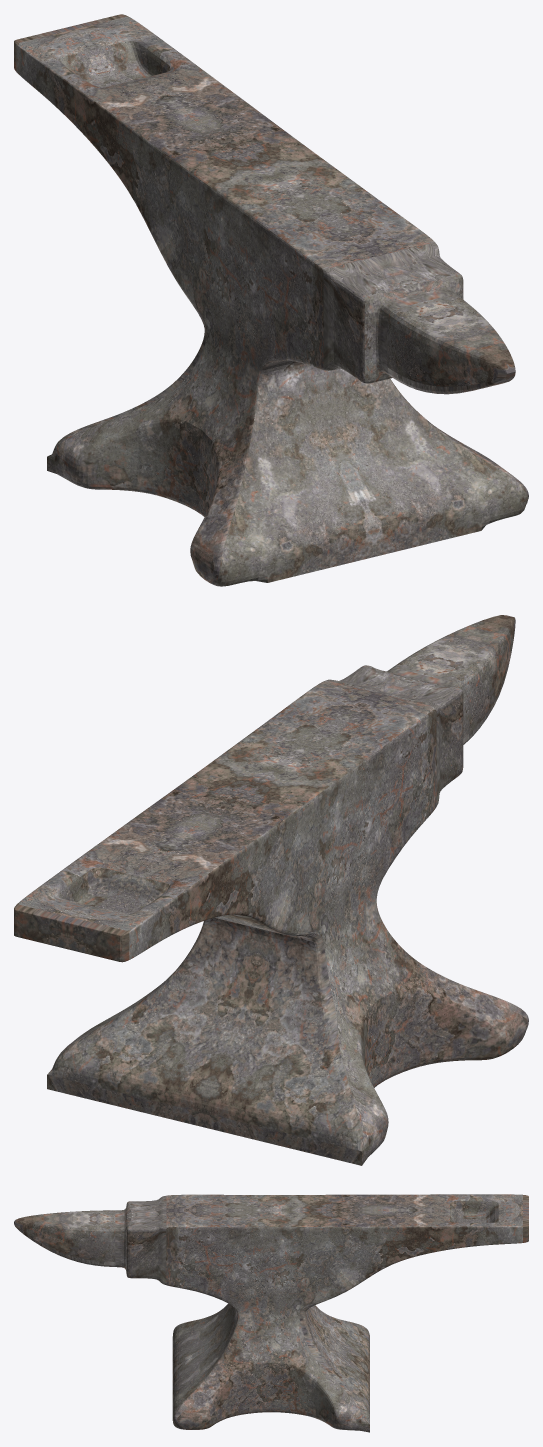
File: anvil.glb
3 renders of one model, top to bottom at view 1: azimuth 30°, elevation 25°; view 2: azimuth 150°, elevation 25°; view 3: azimuth 270°, elevation 25°, orthographic. The views are drawn at different scales.
Visible parts, largest first — view 1: Plane.002; view 2: Plane.002; view 3: Plane.002.
Part boxes in pixels (x1=…): Plane.002: x1=14, y1=14, x2=528, y2=586; Plane.002: x1=14, y1=615, x2=528, y2=1165; Plane.002: x1=14, y1=1194, x2=528, y2=1432.
Size of the model in its own units: 2.45 by 2.28 by 5.99.
1 material, 1 textured.
